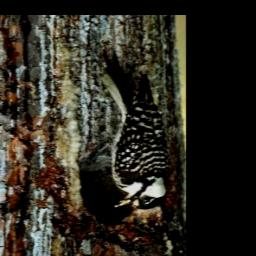Woodpecker: (98, 50, 168, 212)
